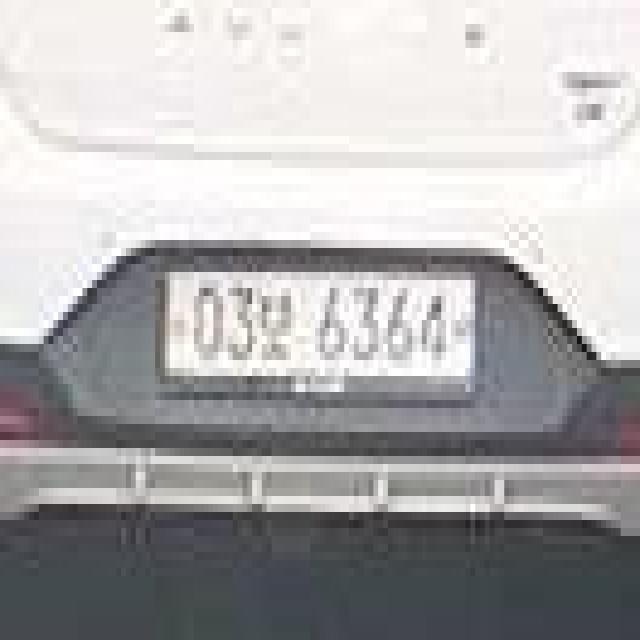illegal_plate: (158, 259, 481, 407)
